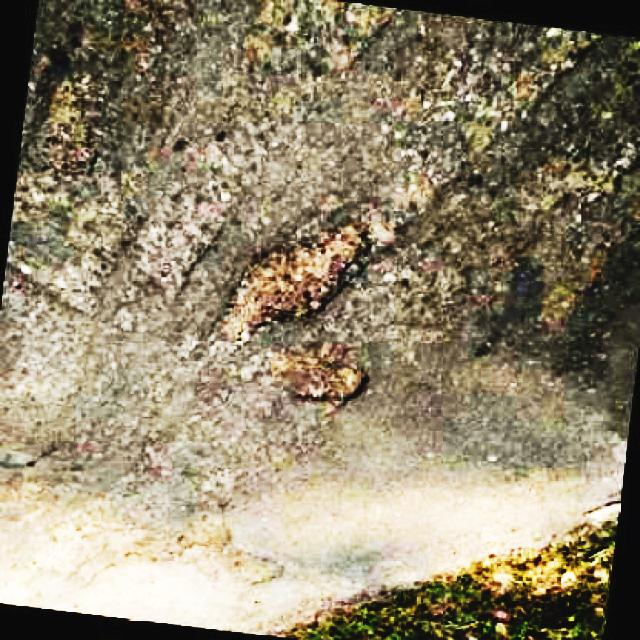pothole: (186, 210, 388, 348), (43, 506, 282, 617), (10, 57, 121, 212), (517, 127, 640, 230), (244, 342, 376, 409)
